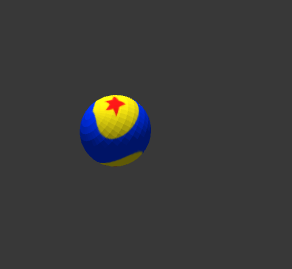toy story ball: (79, 93, 151, 167)
